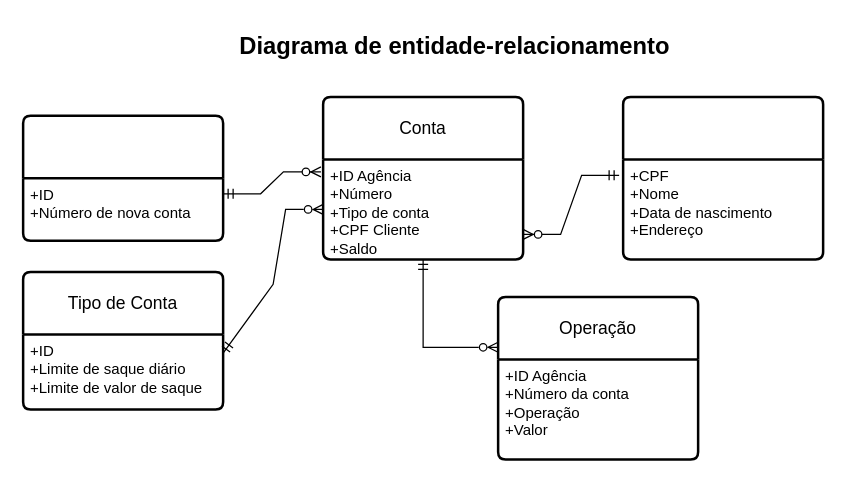
This 845x481 diagram has some shape labels left out. The box of each missing label's shape, as (x1, y1, x2, y2) in pixels:
Agência: (21, 114, 224, 241)
Cliente: (621, 95, 824, 260)
